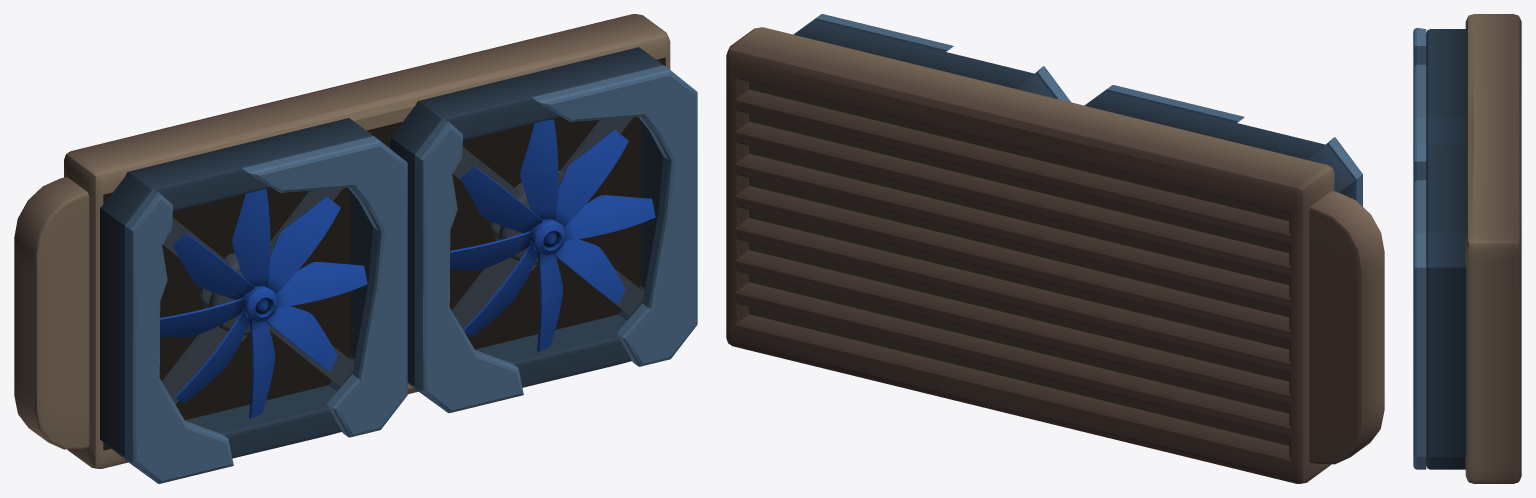
File: Cooling_systems_lvl_10_V01.fbx
3 renders of one model, left to right at view 1: azimuth 30°, elevation 25°; view 2: azimuth 150°, elevation 25°; view 3: azimuth 270°, elevation 25°, orthographic. The views are drawn at different scales.
Visible parts, largest first — view 1: Body_Cooling, Fan_Cooling_01.002, Fan_Cooling_01; view 2: Body_Cooling; view 3: Body_Cooling.
Part boxes in pixels (x1,y1,x2,y2): Body_Cooling: (14, 14, 697, 483); Fan_Cooling_01.002: (450, 119, 655, 351); Fan_Cooling_01: (160, 189, 367, 418); Body_Cooling: (726, 14, 1384, 483); Body_Cooling: (1413, 14, 1521, 483).
Size of the model in its own units: 119 by 53.89 by 21.63.
